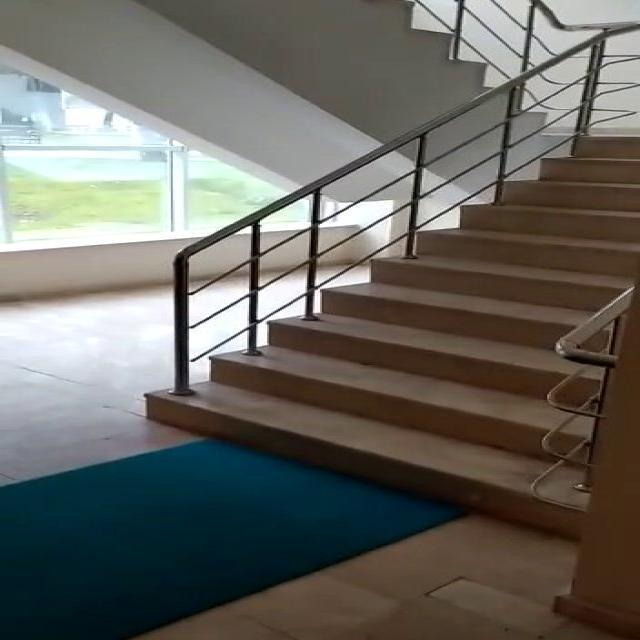stairs: (144, 133, 638, 535)
